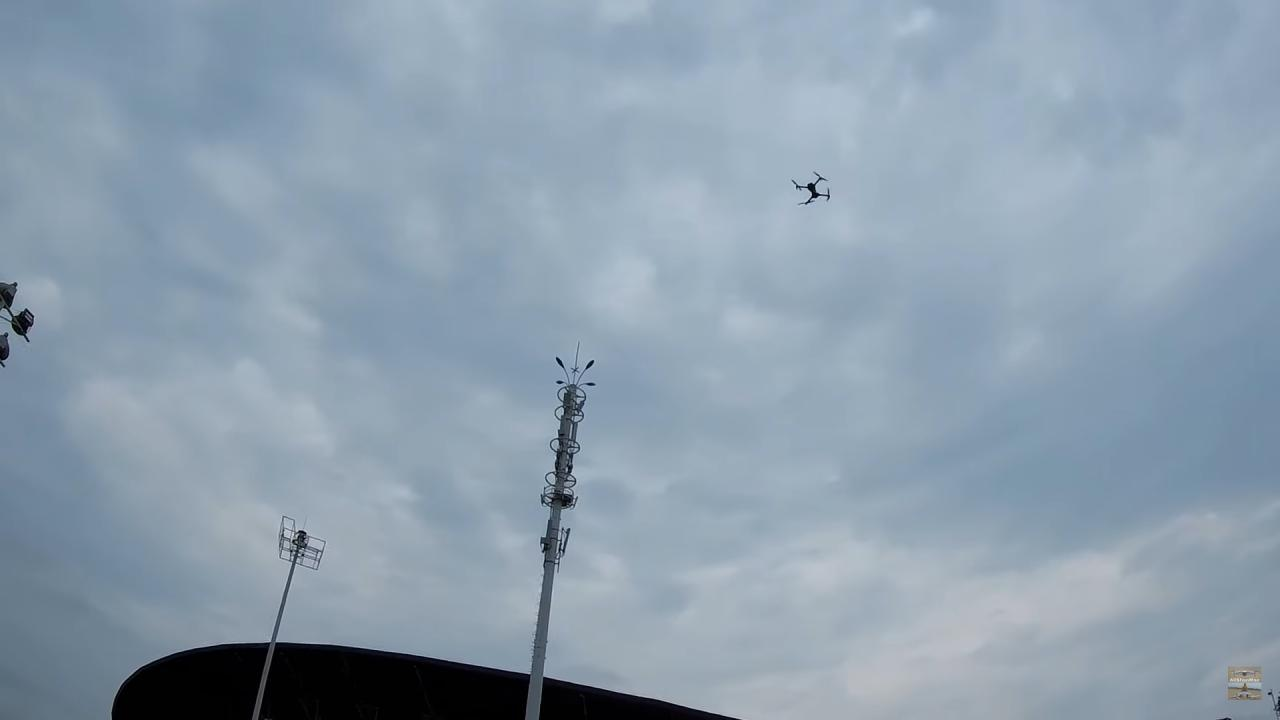Drone: (783, 166, 837, 213)
